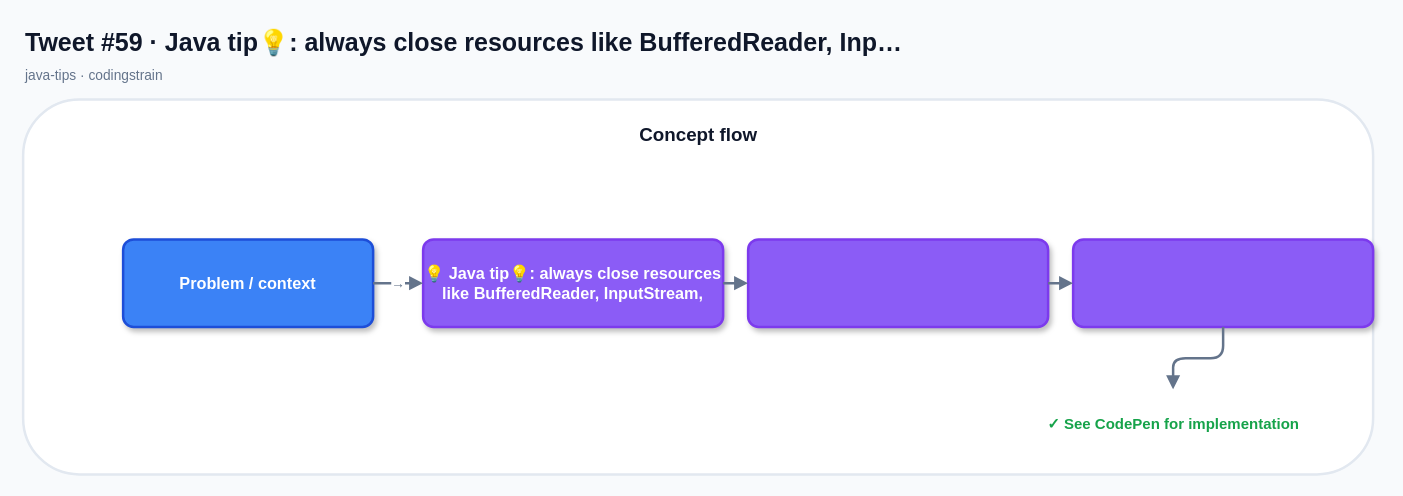
Image size: 1403x496. Some labels were removed from this diagram. The centre of each missing label's shape, as x and y in pixels:
"#Java #BestPractices" goes at point (898, 284).
"Runnable sample: `java-tips`" goes at point (1223, 284).
